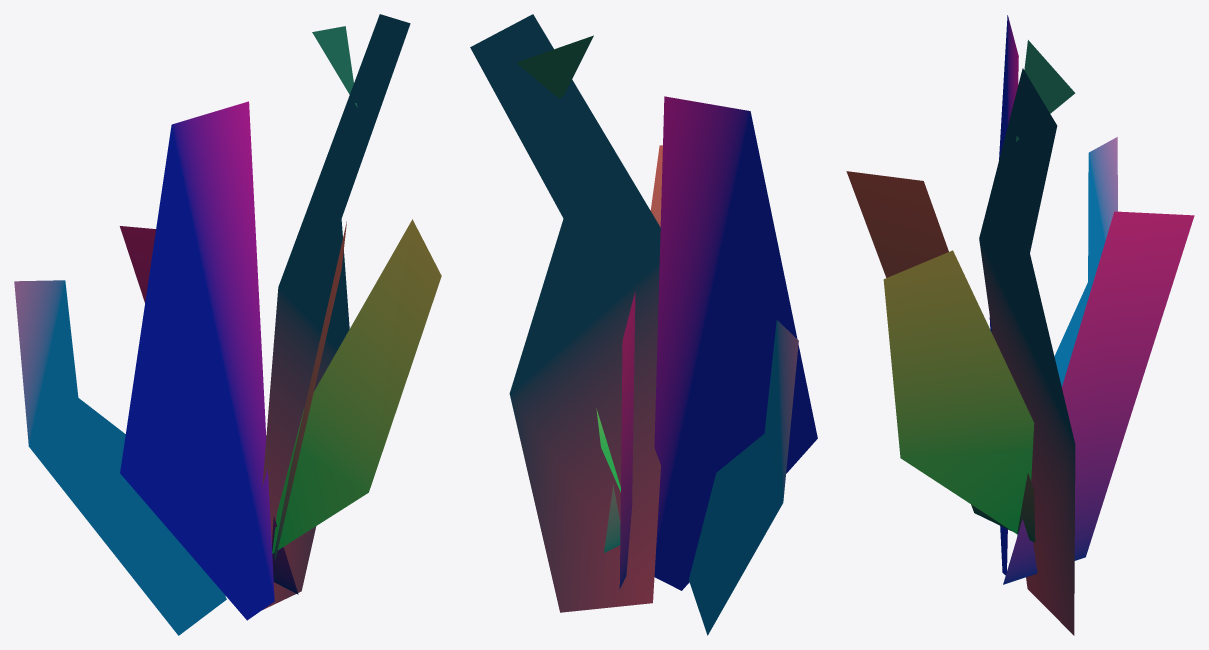
File: Nordic_Coastal_Groundcover_vlqkdeaja_Mid_vlqkdeaja_VarK_LOD3.fbx
3 views of the same model, side by side, from view 1: azimuth 30°, elevation 25°; view 2: azimuth 150°, elevation 25°; view 3: azimuth 270°, elevation 25° (orthographic). The views are drawn at different scales.
Parts seen in each view (by area): view 1: _cqka_VarK_LOD5; view 2: _cqka_VarK_LOD5; view 3: _cqka_VarK_LOD5.
Boxes of the visible parts, x1=… form: _cqka_VarK_LOD5: x1=14, y1=14, x2=441, y2=635; _cqka_VarK_LOD5: x1=470, y1=14, x2=817, y2=635; _cqka_VarK_LOD5: x1=846, y1=15, x2=1194, y2=635.
Size of the model in its own units: 30.19 by 45.9 by 24.34.
